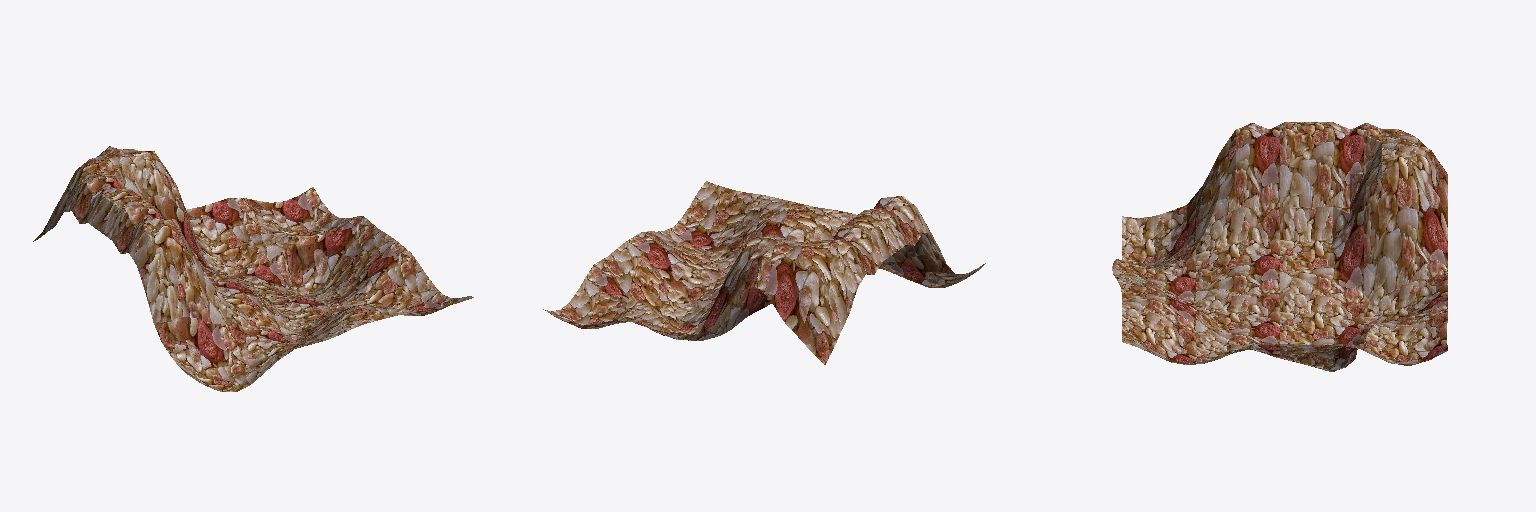
3 views of the same model, side by side, from view 1: azimuth 30°, elevation 25°; view 2: azimuth 150°, elevation 25°; view 3: azimuth 270°, elevation 25° (orthographic).
Parts seen in each view (by area): view 1: Plane001; view 2: Plane001; view 3: Plane001.
Part boxes in pixels (x1,y1,x2,y2): Plane001: (33,146,473,391); Plane001: (543,181,985,364); Plane001: (1112,122,1447,371).
Size of the model in its own units: 4 by 2.03 by 4.13.
1 materials, 1 textured.